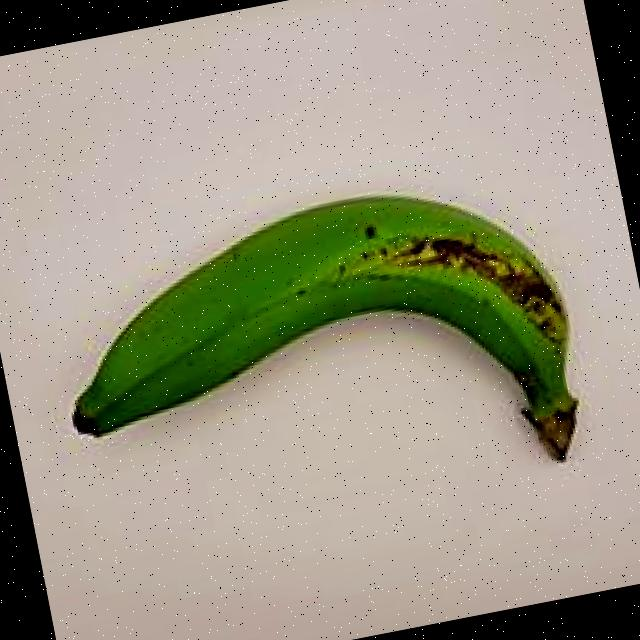Raw: (16, 128, 626, 580)
